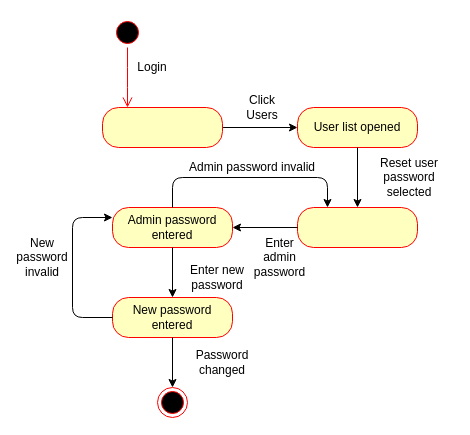
This 470x435 diagram has some shape labels left out. Here are the shapes that lost their labels. From the top down, the centre of each, then its label:
point 162,127: Homepage opened
point 357,227: Waiting for admin password
